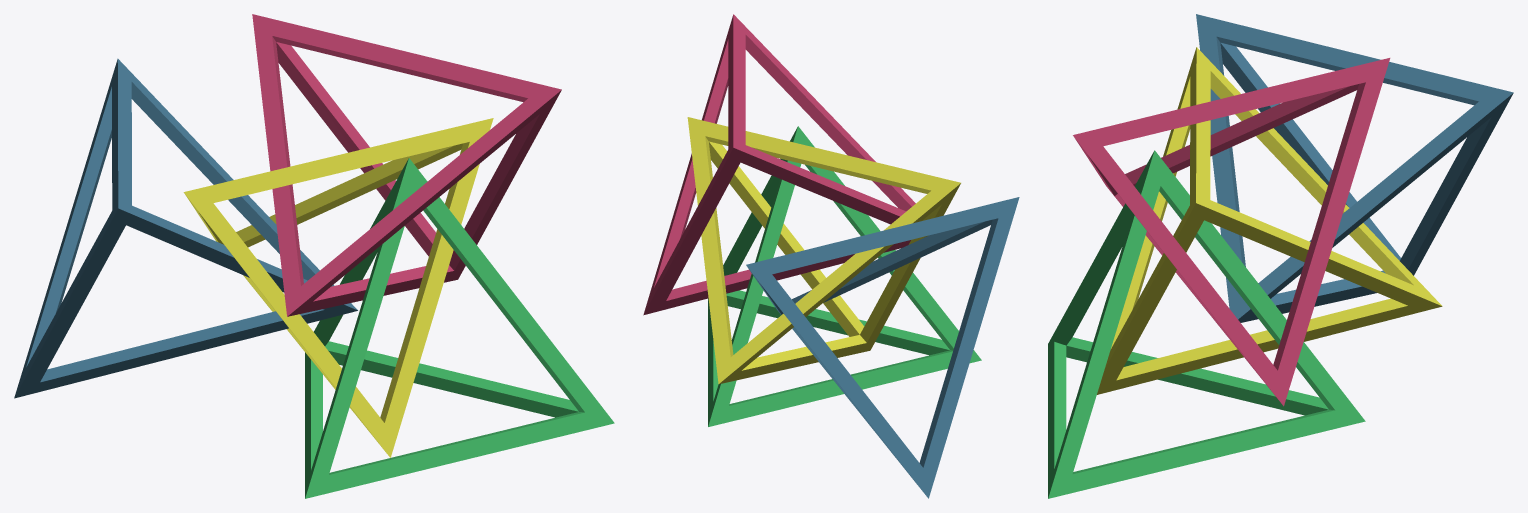
The model's file is fourcolors.dae.
3 renders of one model, left to right at view 1: azimuth 30°, elevation 25°; view 2: azimuth 150°, elevation 25°; view 3: azimuth 270°, elevation 25°, orthographic. The views are drawn at different scales.
Parts seen in each view (by area): view 1: SketchUp (×8); view 2: SketchUp (×8); view 3: SketchUp (×8).
Boxes of the visible parts, x1,y1,x2,y2 form: SketchUp (×8): (14,14,614,498); SketchUp (×8): (643,14,1019,498); SketchUp (×8): (1048,14,1513,498).
Bounding box in the file's own units: 540 × 500 × 407.
